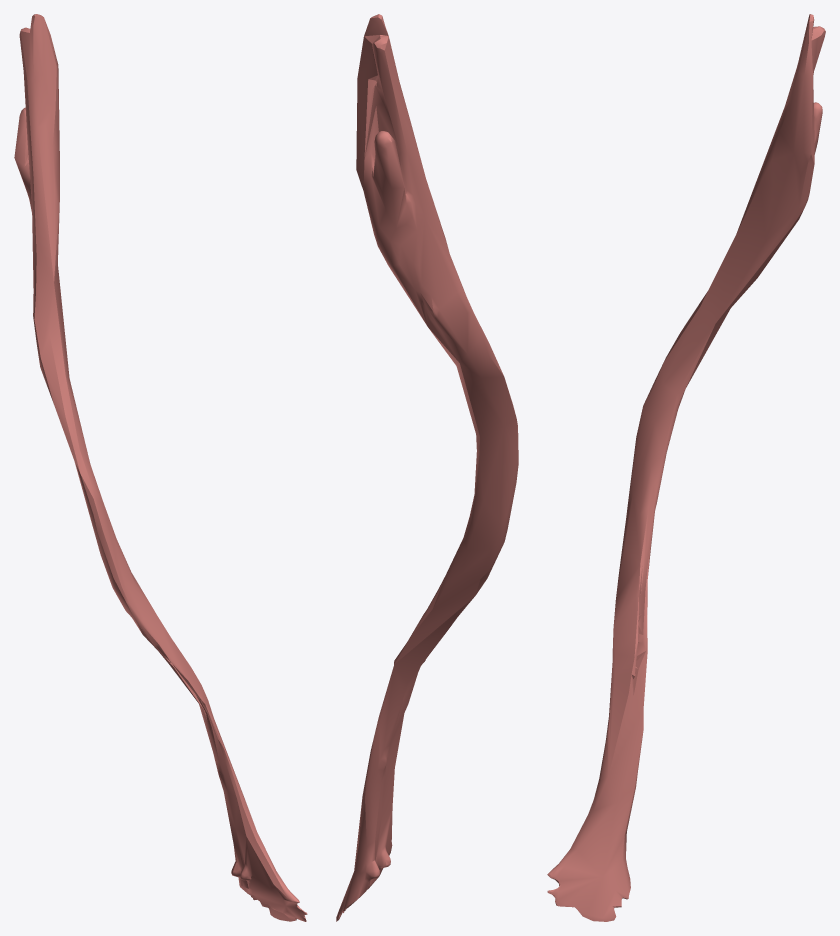
The model's file is fma22551_fj1411m.glb.
3 renders of one model, left to right at view 1: azimuth 30°, elevation 25°; view 2: azimuth 150°, elevation 25°; view 3: azimuth 270°, elevation 25°, orthographic. The views are drawn at different scales.
Parts seen in each view (by area): view 1: FMA22551_FJ1411M; view 2: FMA22551_FJ1411M; view 3: FMA22551_FJ1411M.
Part boxes in pixels (x1,y1,x2,y2): FMA22551_FJ1411M: (14, 14, 307, 921); FMA22551_FJ1411M: (336, 14, 518, 921); FMA22551_FJ1411M: (547, 14, 825, 921).
Bounding box in the file's own units: 0.0301 × 0.1328 × 0.0399.
